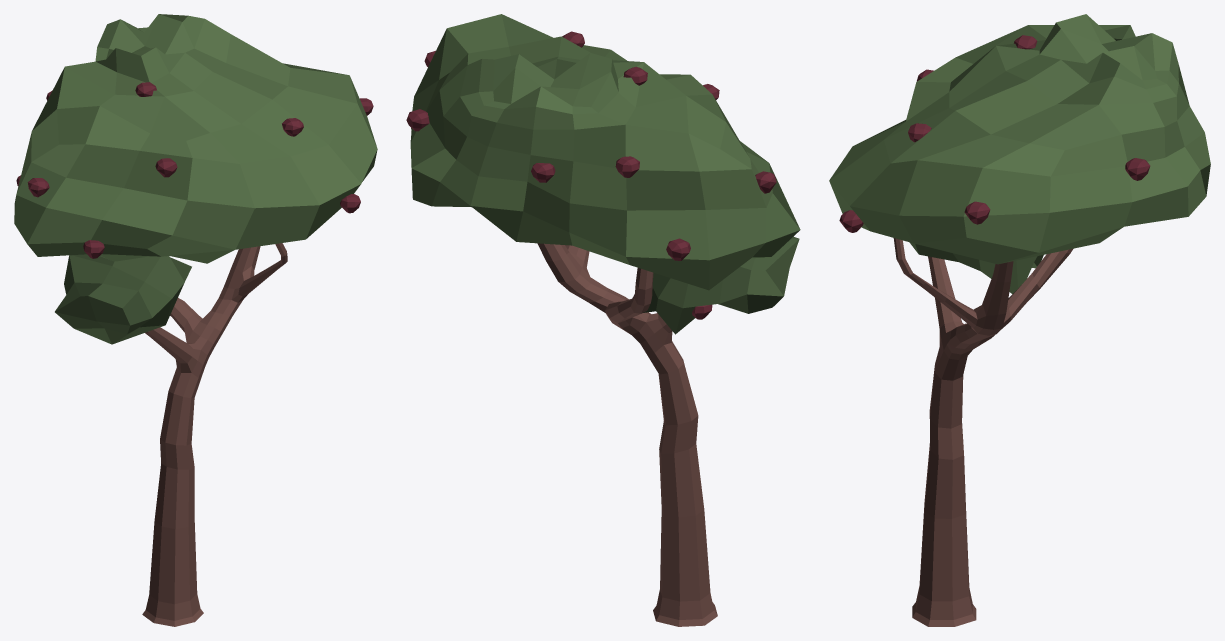
File: apple_4.glb
The picture shows the model from 3 angles, left to right: view 1: azimuth 30°, elevation 25°; view 2: azimuth 150°, elevation 25°; view 3: azimuth 270°, elevation 25°; orthographic projection. The views are drawn at different scales.
Visible parts, largest first — view 1: Apple_4; view 2: Apple_4; view 3: Apple_4.
Part boxes in pixels (x1,y1,x2,y2): Apple_4: [14, 14, 377, 626]; Apple_4: [406, 14, 800, 626]; Apple_4: [829, 14, 1210, 626].
Size of the model in its own units: 1.86 by 2.76 by 1.58.
